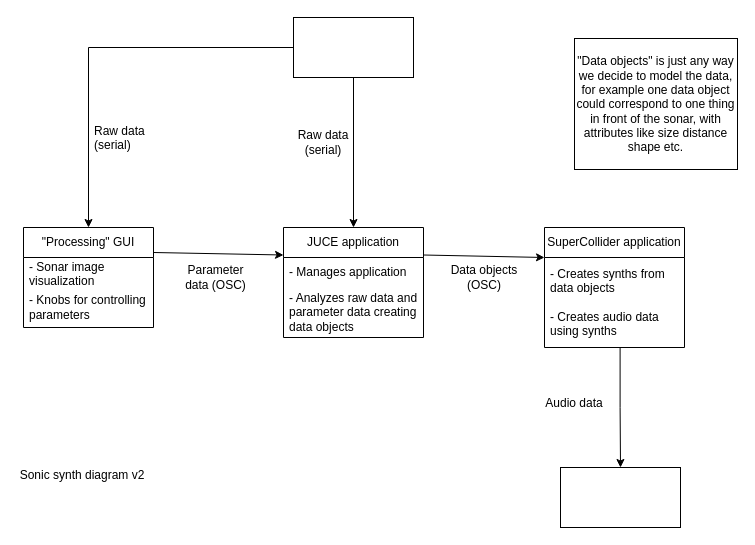
The diagram is 755 pixels wide and 545 high, and some of its shapes have lost their labels. The shapes that lost their labels are listed below. From the top down, each one's centre as x and y in pixels, then its label:
At pixel 353 47: "Sonar + Auduino".
At pixel 620 497: "Speaker".
